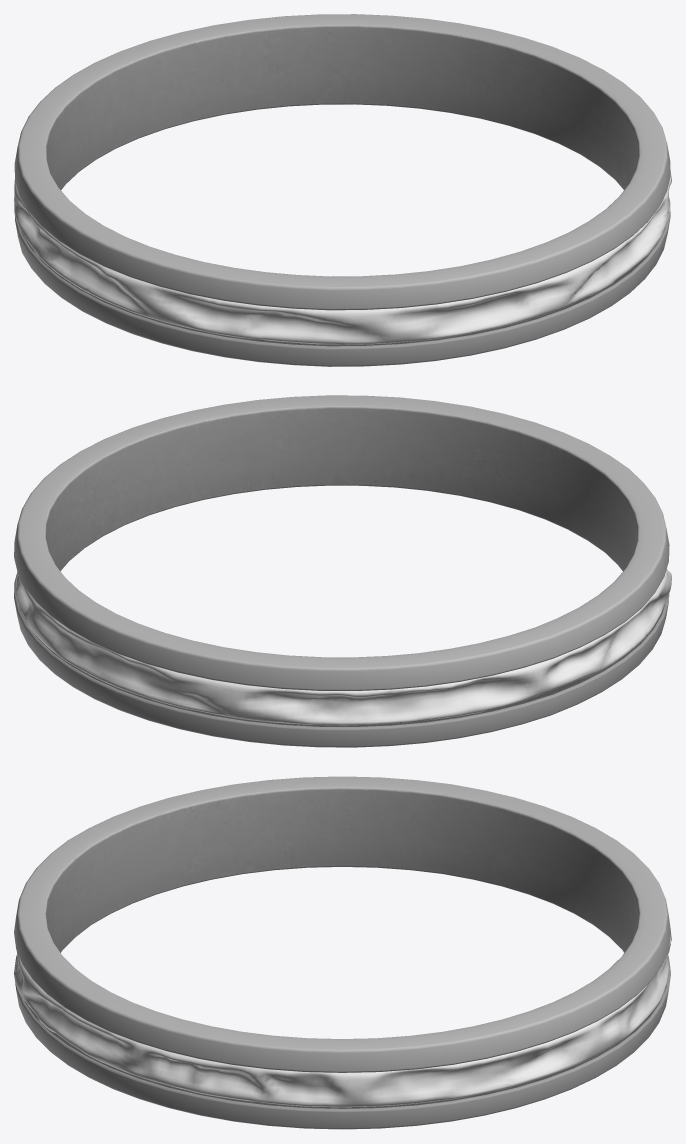
The model's file is Beheyt Artisanaal_174_V1.10.glb.
3 views of the same model, one above another, from view 1: azimuth 30°, elevation 25°; view 2: azimuth 150°, elevation 25°; view 3: azimuth 270°, elevation 25° (orthographic).
Visible parts, largest first — view 1: Engraving_Mesh, Silver_Metal, Custom_Metal; view 2: Engraving_Mesh, Silver_Metal, Custom_Metal; view 3: Engraving_Mesh, Silver_Metal, Custom_Metal.
Boxes of the visible parts, x1,y1,x2,y2 form: Engraving_Mesh: (38, 22, 646, 279); Silver_Metal: (14, 14, 670, 366); Custom_Metal: (14, 169, 671, 344); Engraving_Mesh: (38, 403, 645, 659); Silver_Metal: (14, 395, 669, 747); Custom_Metal: (15, 569, 671, 725); Engraving_Mesh: (38, 784, 646, 1041); Silver_Metal: (14, 776, 670, 1129); Custom_Metal: (14, 934, 671, 1107).
Size of the model in its own units: 2.62 by 0.35 by 2.61.
Materials: 2 (1 with a texture image).
